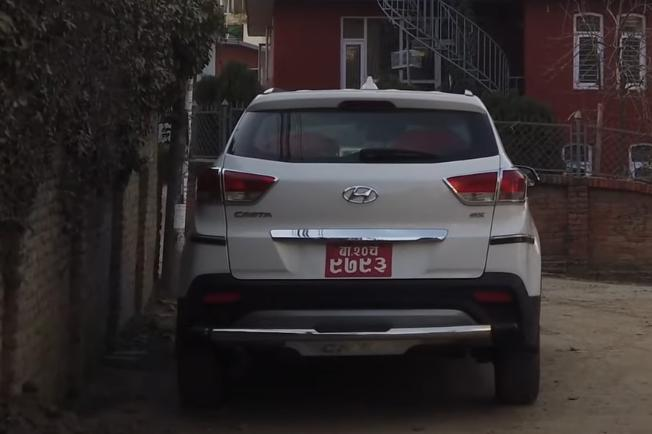car: (173, 81, 541, 409)
